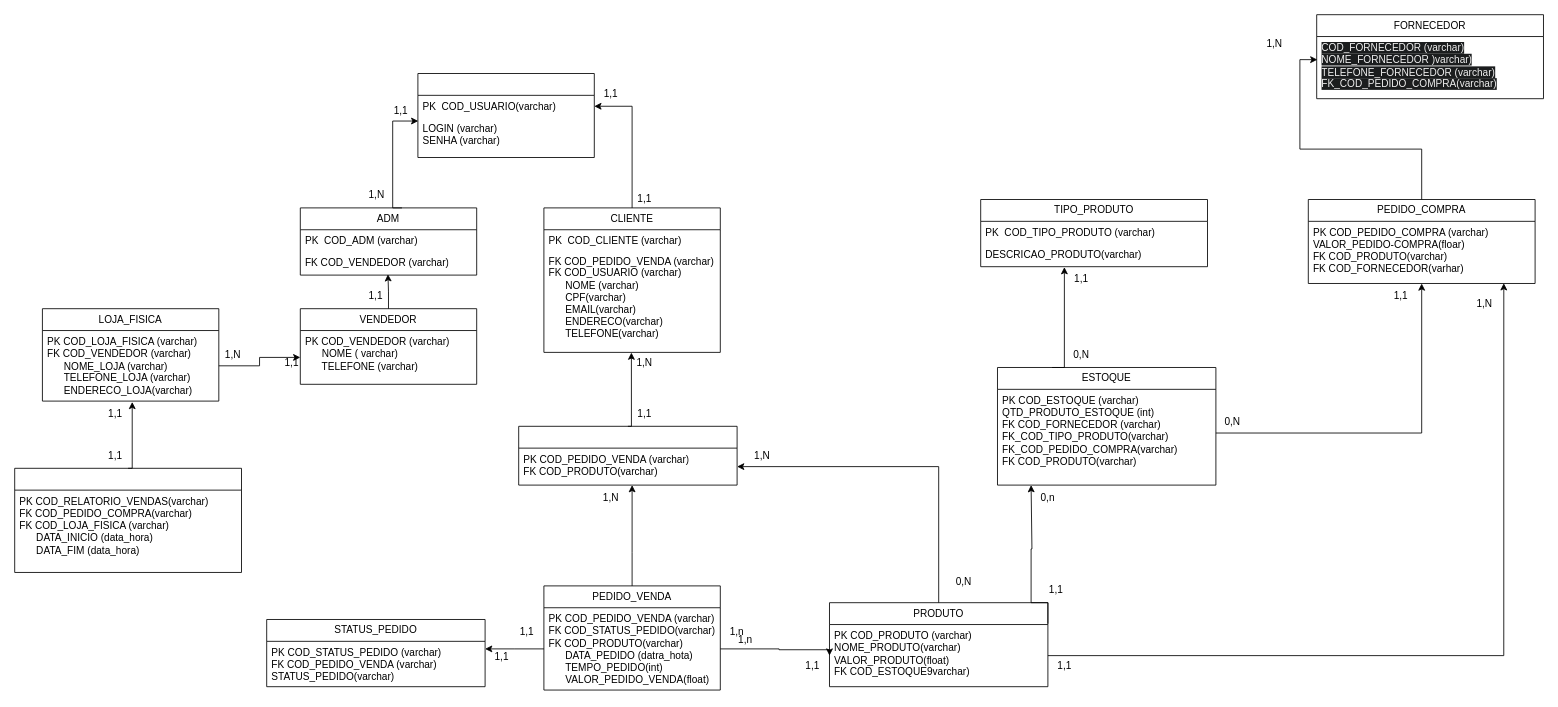
This 1558x707 diagram has some shape labels left out. Each missing label, with the box of its shape:
ITEM- PEDIDO_VENDA: (518, 425, 737, 485)
RELATÓRIO: (14, 467, 242, 572)
USUÁRIO: (417, 73, 594, 158)
